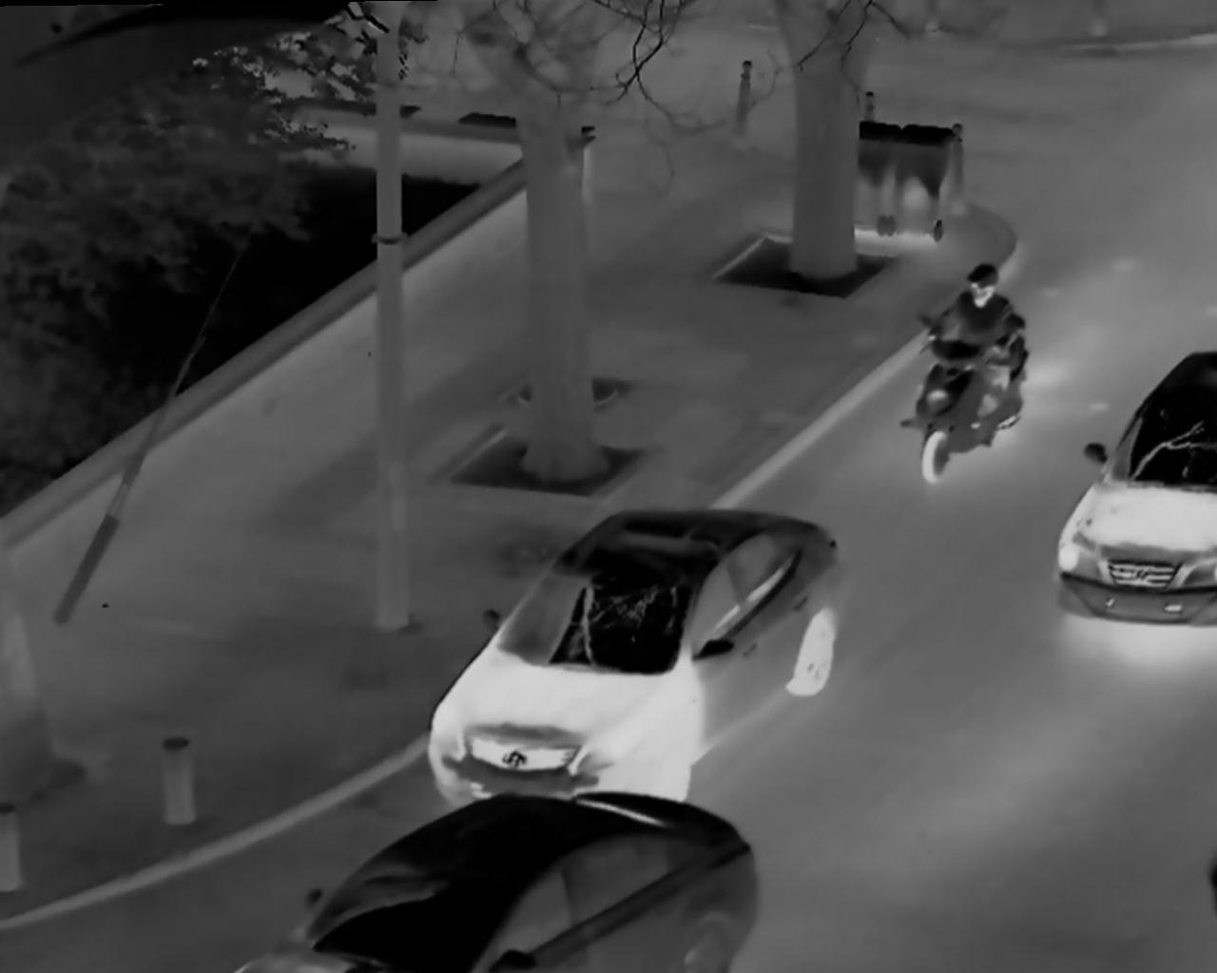person: (921, 247, 1028, 478)
